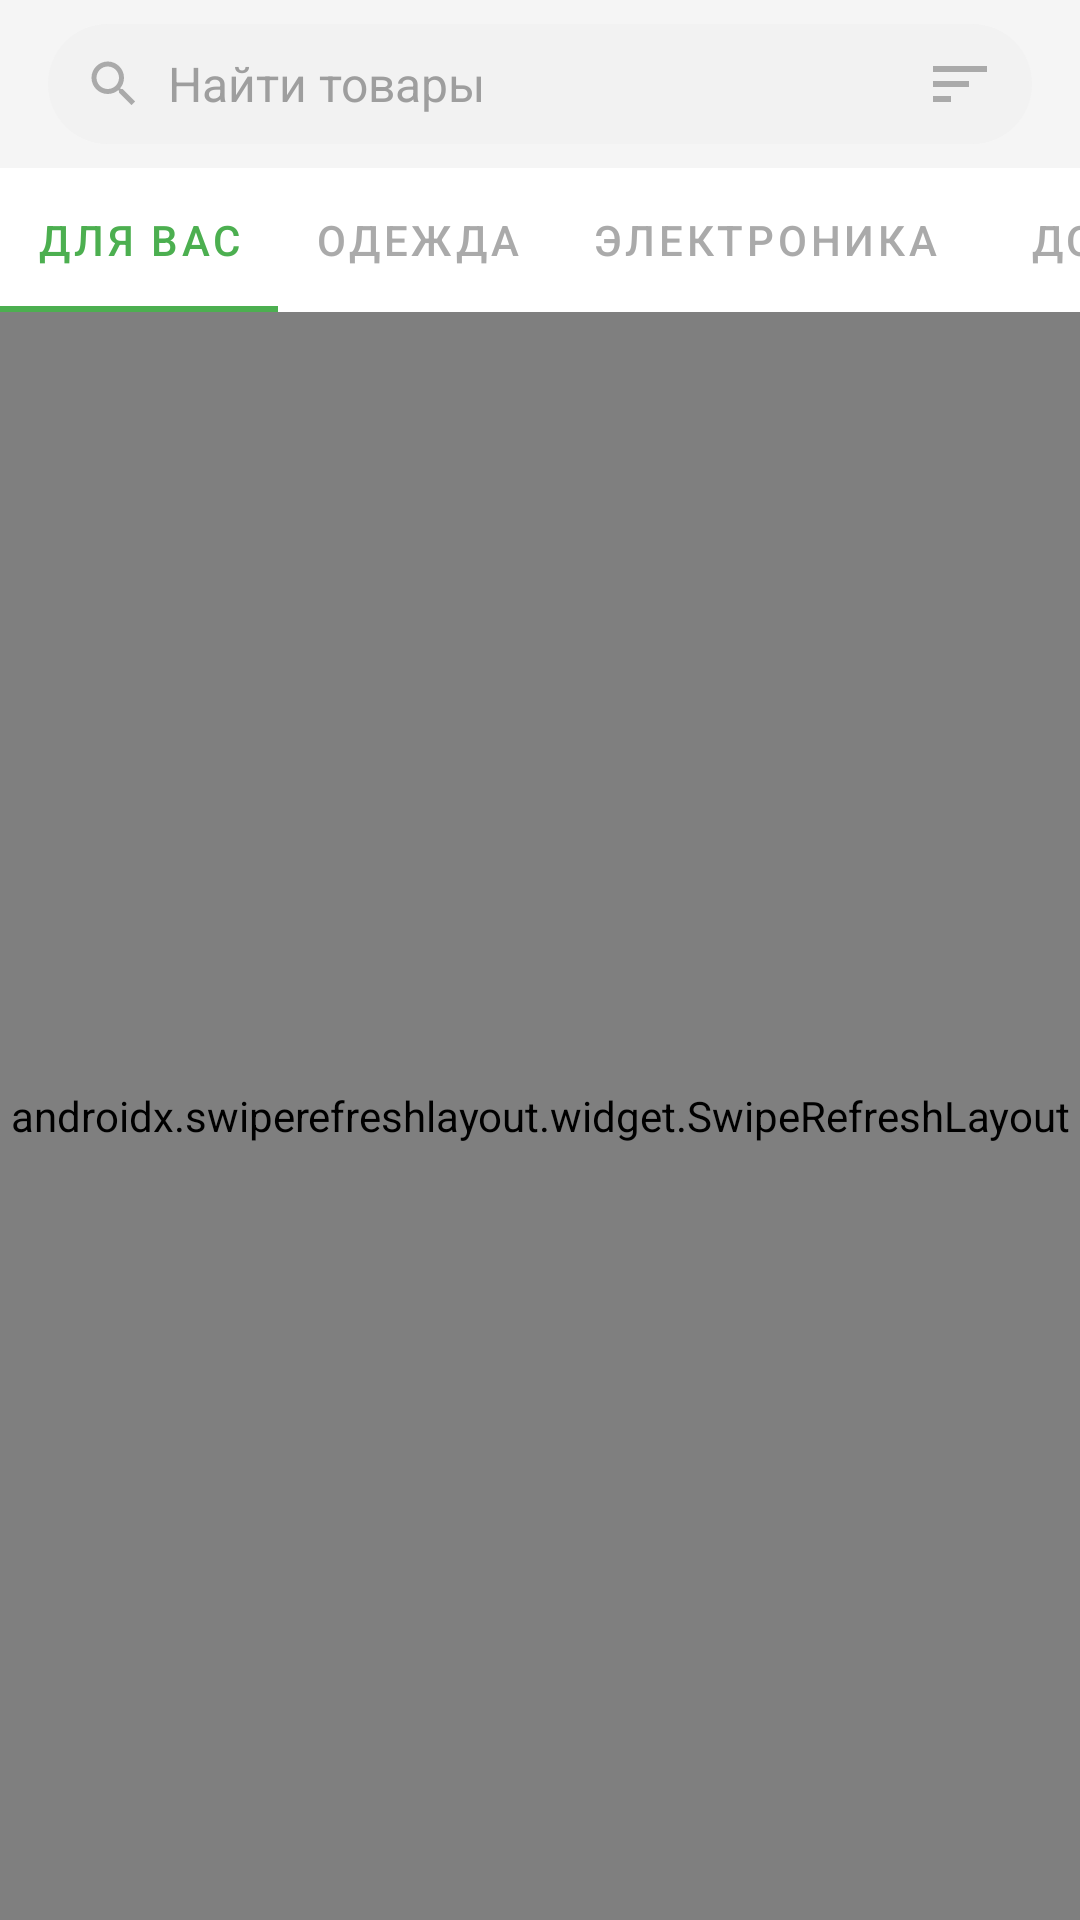

Icons on this 1080×1920 Android screen, each with the point to tap as point (x, y):
filter: point (960, 84)
search: point (113, 83)
